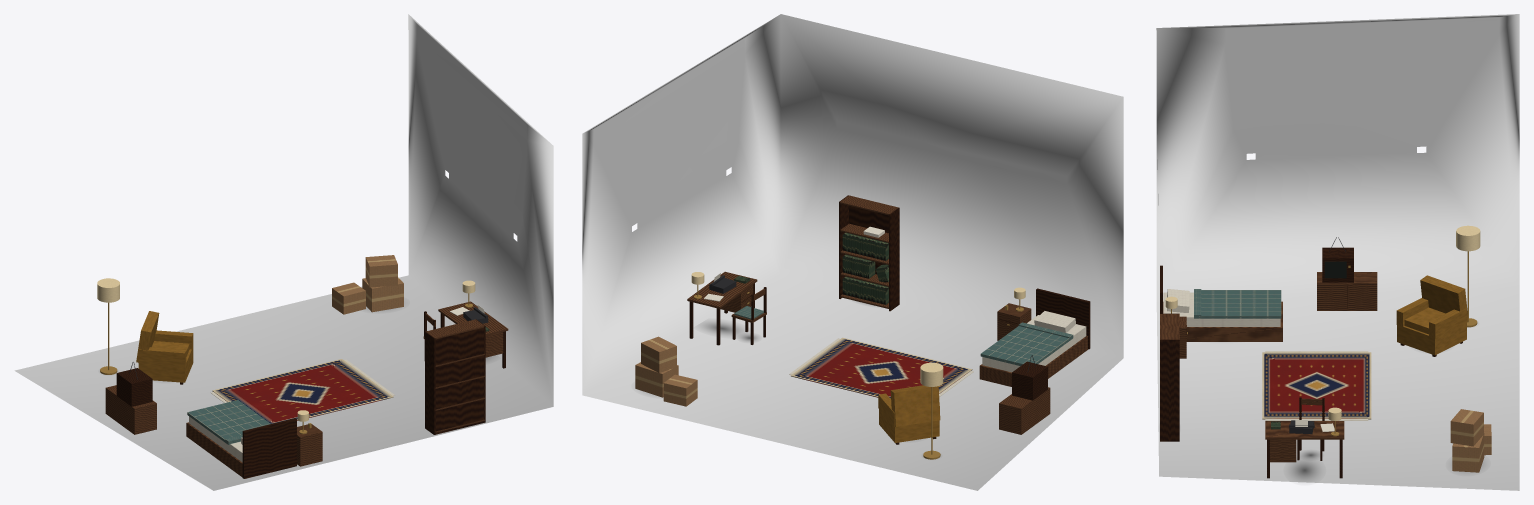
File: CaveGameWeb.glb
3 views of the same model, side by side, from view 1: azimuth 30°, elevation 25°; view 2: azimuth 150°, elevation 25°; view 3: azimuth 270°, elevation 25° (orthographic). The views are drawn at different scales.
Parts seen in each view (by area): view 1: CaveMesh, Carpet, Back (×2), Headboard, Blanket, Cabinet, TV, SideR, BoxA, BoxB, Body, Frame (+4 smaller); view 2: CaveMesh, Carpet, Back (×2), Books (×3), Blanket, Cabinet, Headboard, TV, Frame, SideR, BoxB, Base (+6 smaller); view 3: CaveMesh, Carpet, Blanket, Cabinet, SideL, Frame, Base, Back, Mattress, BoxB, Top, BoxA (+10 smaller).
Part boxes in pixels (x1=…): CaveMesh: x1=14, y1=14, x2=553, y2=490; Carpet: x1=212, y1=359, x2=393, y2=423; Back (×2): x1=136, y1=311, x2=483, y2=434; Headboard: x1=242, y1=418, x2=296, y2=478; Blanket: x1=187, y1=400, x2=270, y2=442; Cabinet: x1=105, y1=385, x2=156, y2=434; TV: x1=116, y1=368, x2=152, y2=406; SideR: x1=425, y1=331, x2=435, y2=434; BoxA: x1=362, y1=277, x2=403, y2=312; BoxB: x1=365, y1=255, x2=397, y2=287; Body: x1=297, y1=424, x2=322, y2=466; Frame: x1=186, y1=422, x2=287, y2=478; CaveMesh: x1=582, y1=14, x2=1123, y2=490; Carpet: x1=790, y1=337, x2=972, y2=398; Back (×2): x1=849, y1=205, x2=940, y2=426; Books (×3): x1=842, y1=232, x2=888, y2=304; Blanket: x1=980, y1=326, x2=1070, y2=365; Cabinet: x1=999, y1=387, x2=1050, y2=434; Headboard: x1=1036, y1=288, x2=1090, y2=349; TV: x1=1012, y1=361, x2=1047, y2=400; Frame: x1=979, y1=336, x2=1087, y2=386; SideR: x1=889, y1=207, x2=899, y2=311; BoxB: x1=641, y1=336, x2=676, y2=372; Base: x1=879, y1=409, x2=939, y2=442; CaveMesh: x1=1156, y1=14, x2=1519, y2=490; Carpet: x1=1262, y1=352, x2=1371, y2=419; Blanket: x1=1199, y1=290, x2=1281, y2=318; Cabinet: x1=1317, y1=272, x2=1377, y2=310; SideL: x1=1160, y1=339, x2=1179, y2=441; Frame: x1=1163, y1=301, x2=1282, y2=341; Base: x1=1397, y1=323, x2=1466, y2=355; Back: x1=1420, y1=275, x2=1468, y2=321; Mattress: x1=1163, y1=292, x2=1280, y2=326; BoxB: x1=1450, y1=409, x2=1483, y2=446; Top: x1=1265, y1=421, x2=1344, y2=439; BoxA: x1=1452, y1=433, x2=1484, y2=472.
Size of the model in its own units: 7.95 by 5.01 by 6.07.
Materials: 15 (11 with a texture image).
